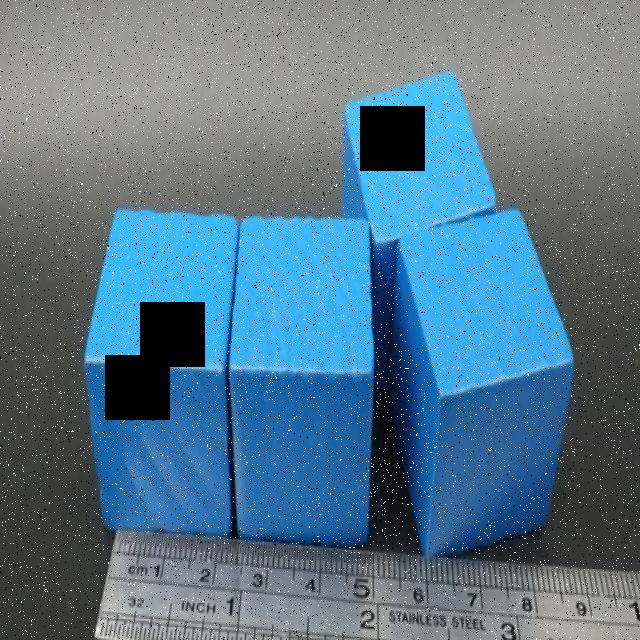bluecube: (385, 203, 577, 560), (340, 70, 498, 391), (84, 208, 239, 533), (229, 216, 373, 551)
